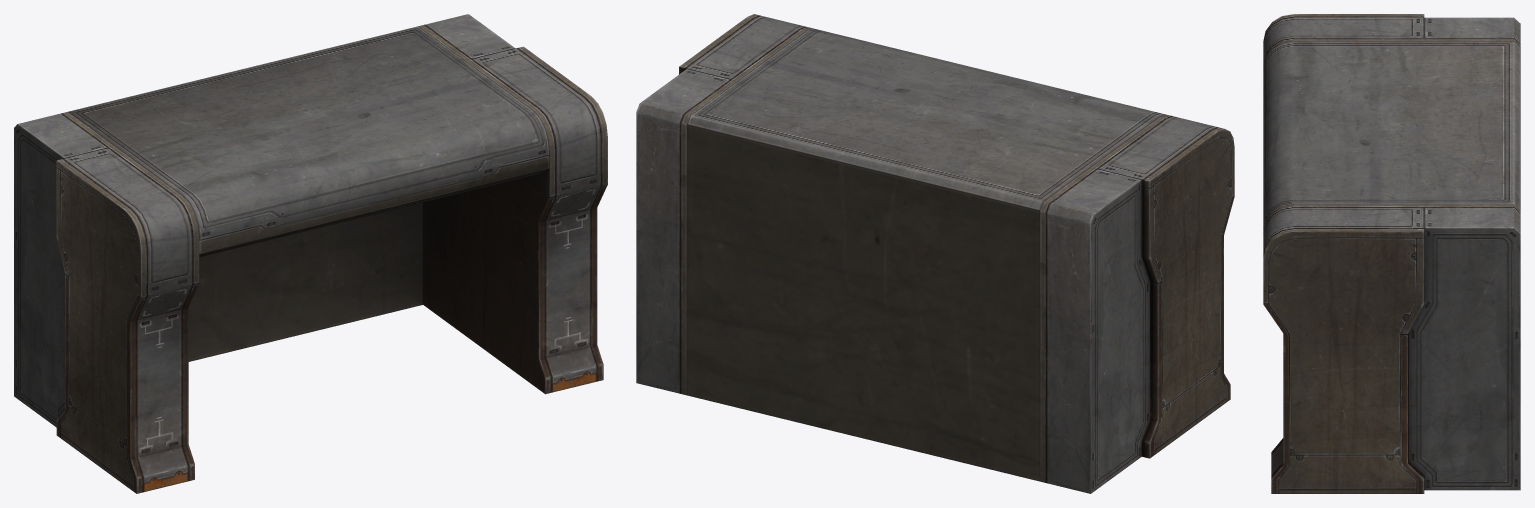
The model's file is computer_parts_chassis02_small.dae.
3 renders of one model, left to right at view 1: azimuth 30°, elevation 25°; view 2: azimuth 150°, elevation 25°; view 3: azimuth 270°, elevation 25°, orthographic. The views are drawn at different scales.
Visible parts, largest first — view 1: chassis02__2_; view 2: chassis02__2_; view 3: chassis02__2_.
Boxes of the visible parts, <box> form: chassis02__2_: <box>14,14,607,493</box>; chassis02__2_: <box>636,14,1234,493</box>; chassis02__2_: <box>1263,14,1520,493</box>.
Bounding box in the file's own units: 2 × 1.12 × 1.
